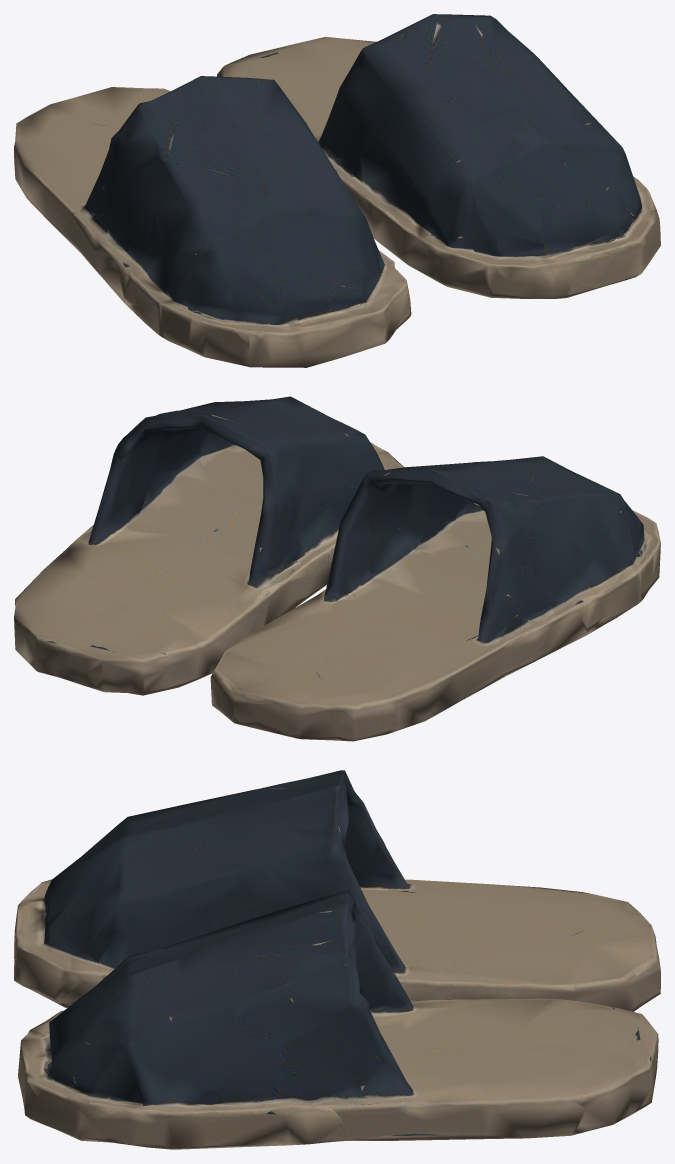
Rendered from slippers.glb.
3 renders of one model, top to bottom at view 1: azimuth 30°, elevation 25°; view 2: azimuth 150°, elevation 25°; view 3: azimuth 270°, elevation 25°, orthographic. The views are drawn at different scales.
Bounding box in the file's own units: 1.77 × 0.6054 × 1.9.
Materials: 1 (1 with a texture image).
